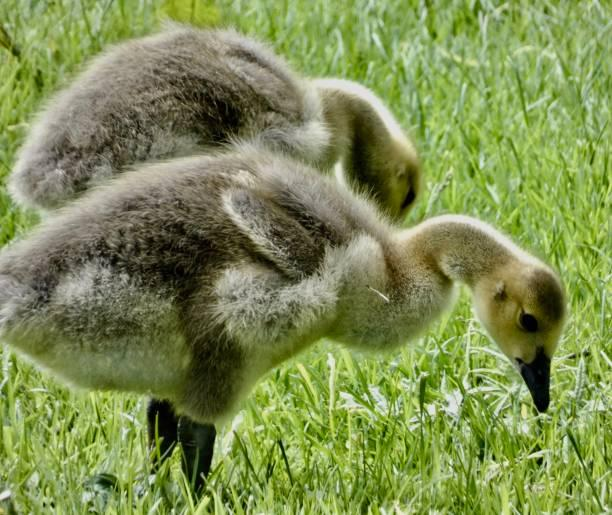Canadian-Goose: (0, 147, 567, 470), (16, 19, 428, 210)
